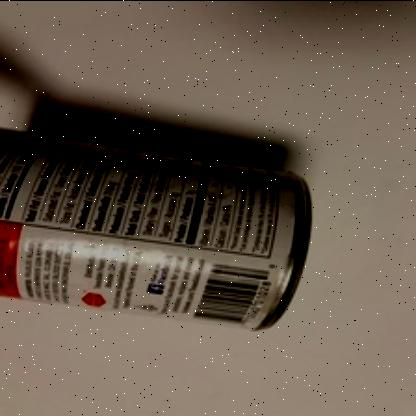Can: (0, 127, 312, 330)
